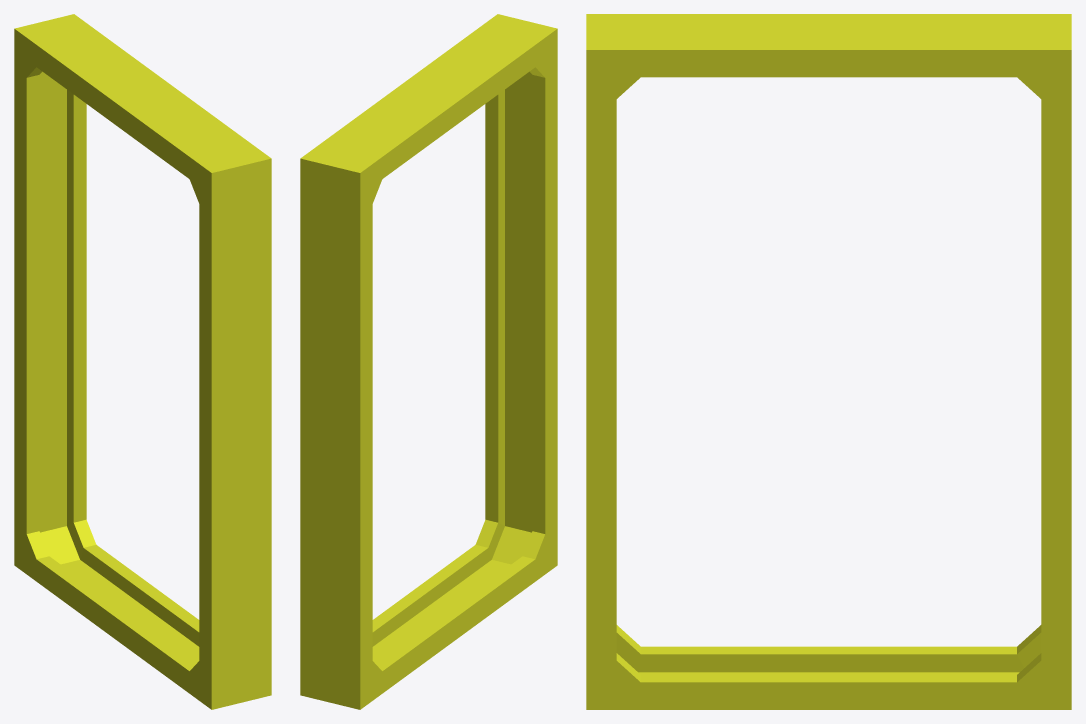
Rendered from DoorFrame_B.fbx.
The picture shows the model from 3 angles, left to right: view 1: azimuth 30°, elevation 25°; view 2: azimuth 150°, elevation 25°; view 3: azimuth 270°, elevation 25°; orthographic projection. The views are drawn at different scales.
Visible parts, largest first — view 1: DoorFrame_B; view 2: DoorFrame_B; view 3: DoorFrame_B.
Boxes of the visible parts, x1=… form: DoorFrame_B: x1=14, y1=14, x2=271, y2=709; DoorFrame_B: x1=300, y1=14, x2=557, y2=709; DoorFrame_B: x1=586, y1=14, x2=1071, y2=709.
Bounding box in the file's own units: 0.35 × 3 × 2.
